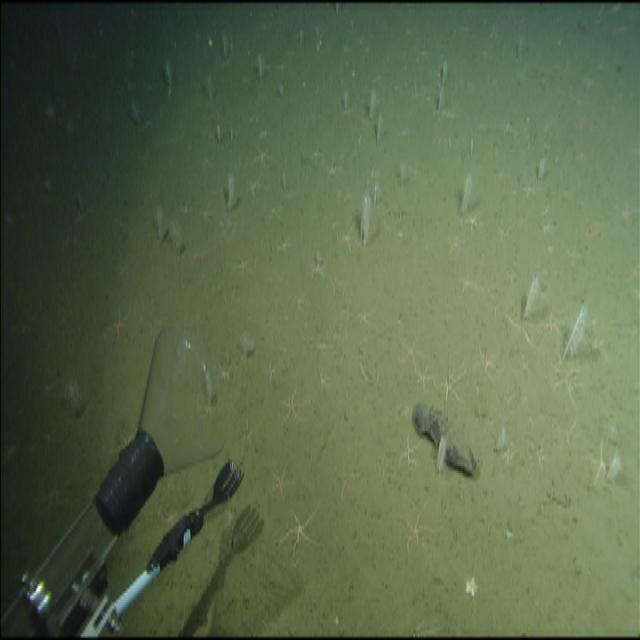Brittle Star: (278, 503, 321, 560), (548, 353, 582, 405), (393, 327, 427, 372), (278, 379, 307, 428)
Not Brittle Star: (411, 391, 479, 480), (557, 297, 591, 367), (519, 266, 542, 324), (457, 167, 476, 223), (164, 209, 185, 257), (359, 181, 373, 247), (152, 195, 165, 243), (161, 52, 174, 96), (365, 80, 378, 122), (224, 167, 236, 210), (253, 47, 267, 83), (218, 19, 229, 63), (395, 153, 409, 186), (438, 54, 450, 83), (537, 148, 546, 182), (342, 82, 351, 111)
